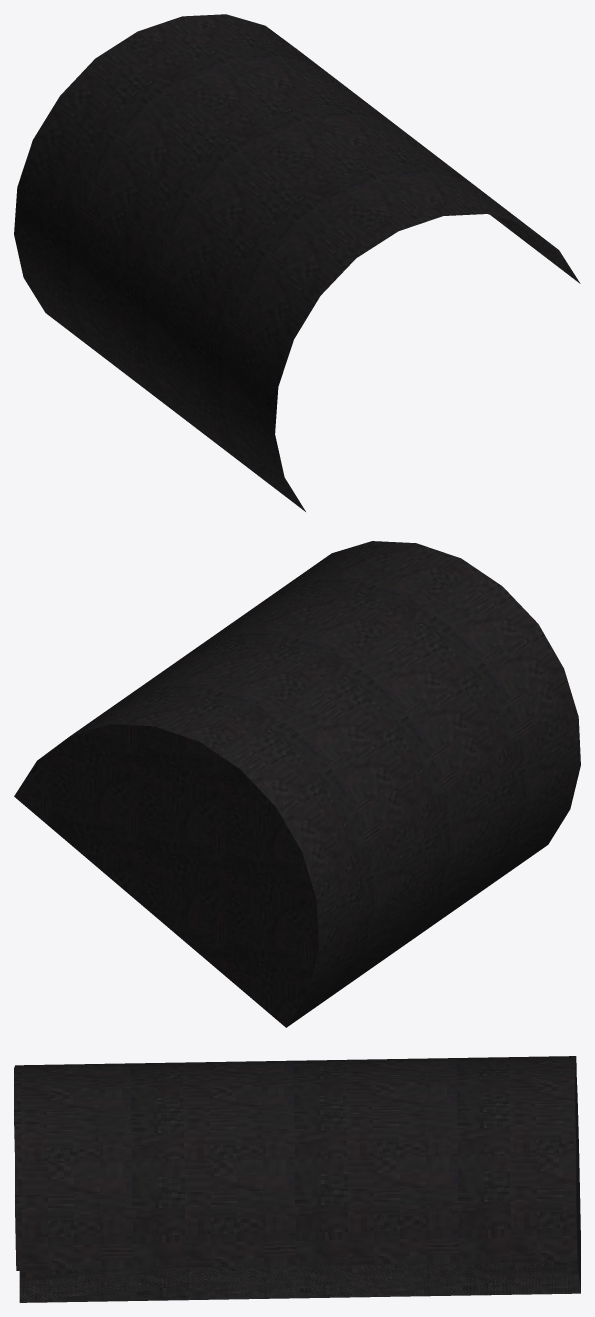
File: original-208.obj
3 renders of one model, top to bottom at view 1: azimuth 30°, elevation 25°; view 2: azimuth 150°, elevation 25°; view 3: azimuth 270°, elevation 25°, orthographic. The views are drawn at different scales.
Parts seen in each view (by area): view 1: Group9/mesh100/mesh100-geometry/material_1/component_16#mesh100-; view 2: Group9/mesh100/mesh100-geometry/material_1/component_16#mesh100-; view 3: Group9/mesh100/mesh100-geometry/material_1/component_16#mesh100-.
Part boxes in pixels (x1,y1,x2,y2): Group9/mesh100/mesh100-geometry/material_1/component_16#mesh100-: [14, 14, 580, 511]; Group9/mesh100/mesh100-geometry/material_1/component_16#mesh100-: [14, 541, 580, 1027]; Group9/mesh100/mesh100-geometry/material_1/component_16#mesh100-: [14, 1056, 580, 1302].
Bounding box in the file's own units: 0.022 × 0.0189 × 0.033.
Materials: 2 (2 with a texture image).
